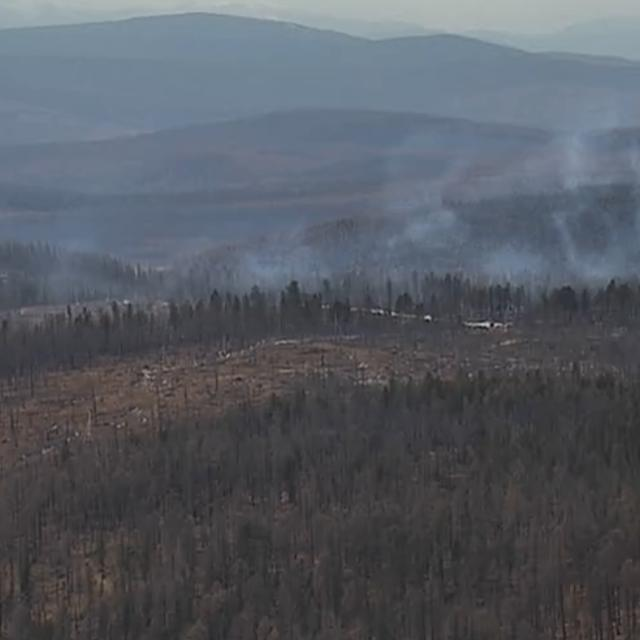Smoke: (0, 106, 640, 326)
